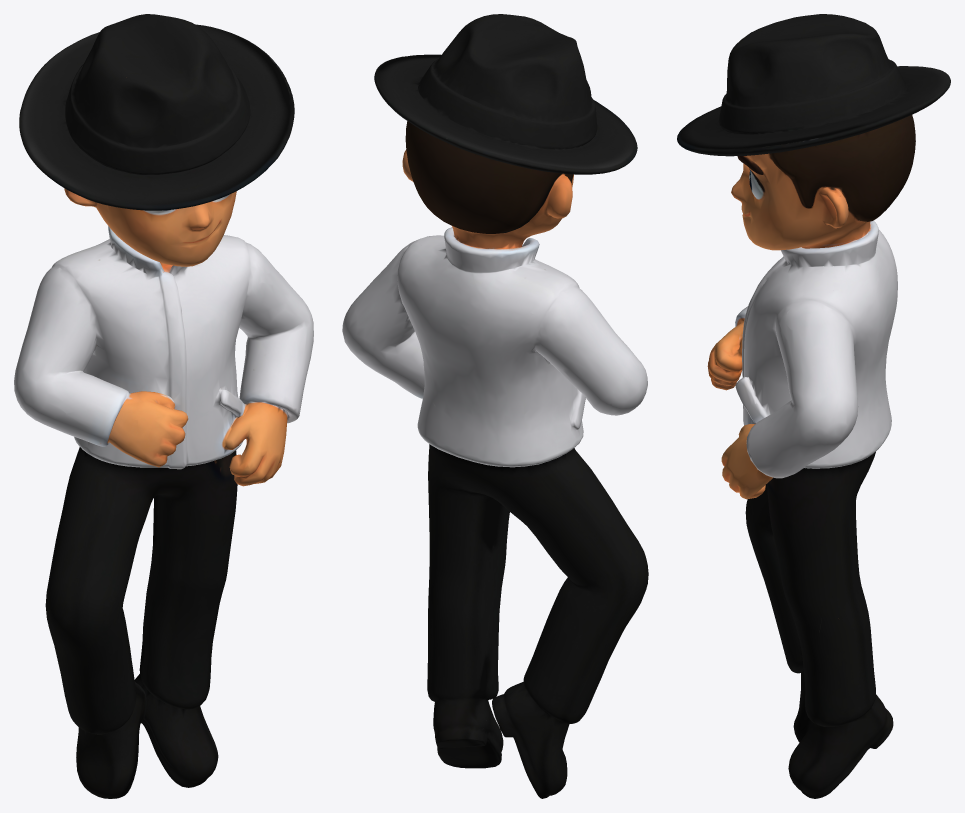
File: disco_dash_src.glb
3 renders of one model, left to right at view 1: azimuth 30°, elevation 25°; view 2: azimuth 150°, elevation 25°; view 3: azimuth 270°, elevation 25°, orthographic.
Visible parts, largest first — view 1: tripo_node_d232f131-3b28-4056-868b-10b185f34d3a; view 2: tripo_node_d232f131-3b28-4056-868b-10b185f34d3a; view 3: tripo_node_d232f131-3b28-4056-868b-10b185f34d3a.
Boxes of the visible parts, x1,y1,x2,y2 form: tripo_node_d232f131-3b28-4056-868b-10b185f34d3a: (14,14,313,798); tripo_node_d232f131-3b28-4056-868b-10b185f34d3a: (342,14,648,798); tripo_node_d232f131-3b28-4056-868b-10b185f34d3a: (677,14,950,798).
Size of the model in its own units: 0.4047 by 1 by 0.3301.
Materials: 1 (1 with a texture image).
